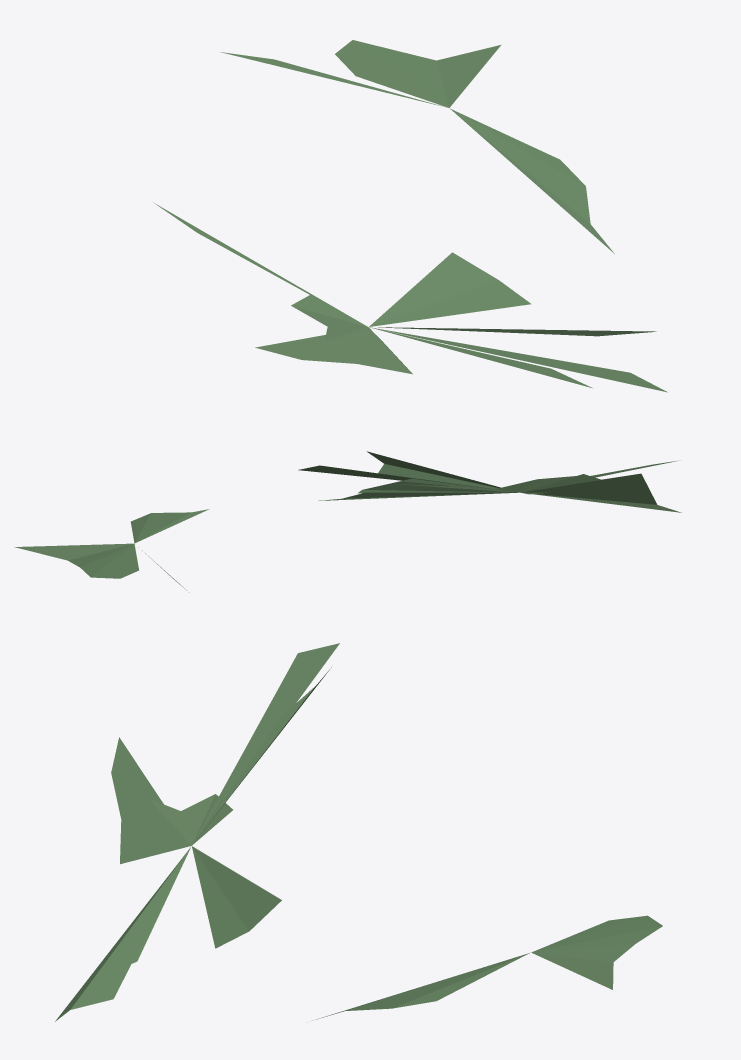
The model's file is c_1668_17818_forest.glb.
The picture shows the model from 3 angles, top to bottom: view 1: azimuth 30°, elevation 25°; view 2: azimuth 150°, elevation 25°; view 3: azimuth 270°, elevation 25°; orthographic projection. The views are drawn at different scales.
Visible parts, largest first — view 1: geometry_0; view 2: geometry_0; view 3: geometry_0.
Boxes of the visible parts, x1=… form: geometry_0: x1=153, y1=40, x2=667, y2=392; geometry_0: x1=14, y1=451, x2=681, y2=592; geometry_0: x1=55, y1=643, x2=662, y2=1021.
Bounding box in the file's own units: 258 × 70.8 × 272.
